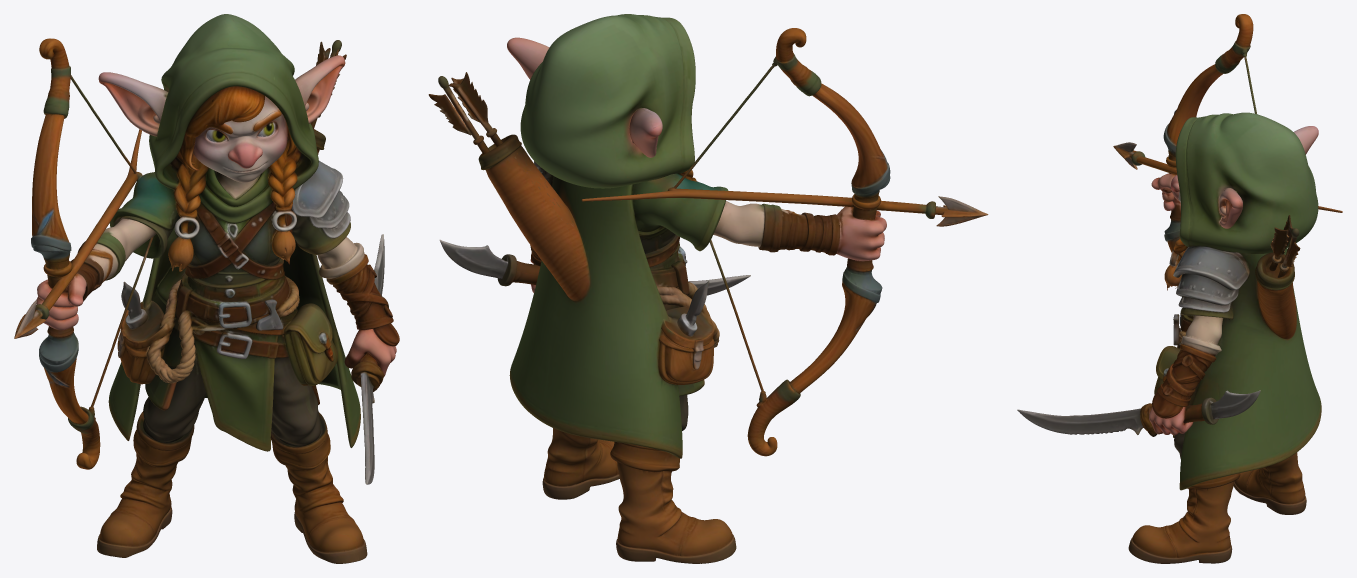
File: gnome_ranger_full_female_01.glb
The picture shows the model from 3 angles, left to right: view 1: azimuth 30°, elevation 25°; view 2: azimuth 150°, elevation 25°; view 3: azimuth 270°, elevation 25°; orthographic projection. The views are drawn at different scales.
Parts seen in each view (by area): view 1: material; view 2: material; view 3: material.
Boxes of the visible parts, bbox=[...] form: material: bbox=[14, 14, 399, 563]; material: bbox=[428, 14, 988, 563]; material: bbox=[1017, 14, 1342, 563].
Size of the model in its own units: 0.9249 by 1.03 by 0.6872.
1 material, 1 textured.
